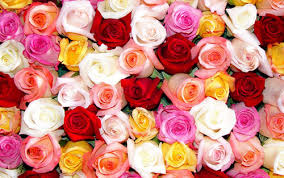lale: (81, 141, 133, 178), (189, 100, 233, 140), (190, 34, 233, 74), (156, 104, 199, 143), (121, 74, 167, 110), (79, 50, 126, 85), (244, 10, 284, 49), (90, 14, 135, 48), (26, 98, 63, 139), (11, 65, 55, 99), (22, 134, 60, 173), (130, 140, 169, 178), (227, 100, 262, 142), (17, 1, 60, 35), (157, 35, 194, 74), (54, 141, 93, 178), (56, 4, 97, 38), (162, 141, 199, 178), (227, 38, 266, 73), (164, 6, 205, 38), (127, 108, 160, 146), (196, 139, 234, 172), (231, 135, 261, 176), (65, 110, 104, 141), (54, 80, 96, 108), (26, 32, 62, 64), (167, 76, 203, 107), (197, 7, 230, 40), (234, 74, 267, 107), (117, 47, 152, 78), (133, 17, 168, 48), (226, 4, 260, 35), (88, 83, 127, 110), (98, 114, 130, 146), (0, 131, 24, 173), (1, 45, 33, 76), (60, 37, 88, 70), (0, 72, 24, 108), (203, 72, 235, 99), (260, 105, 284, 139), (94, 0, 141, 17), (0, 12, 22, 45)
